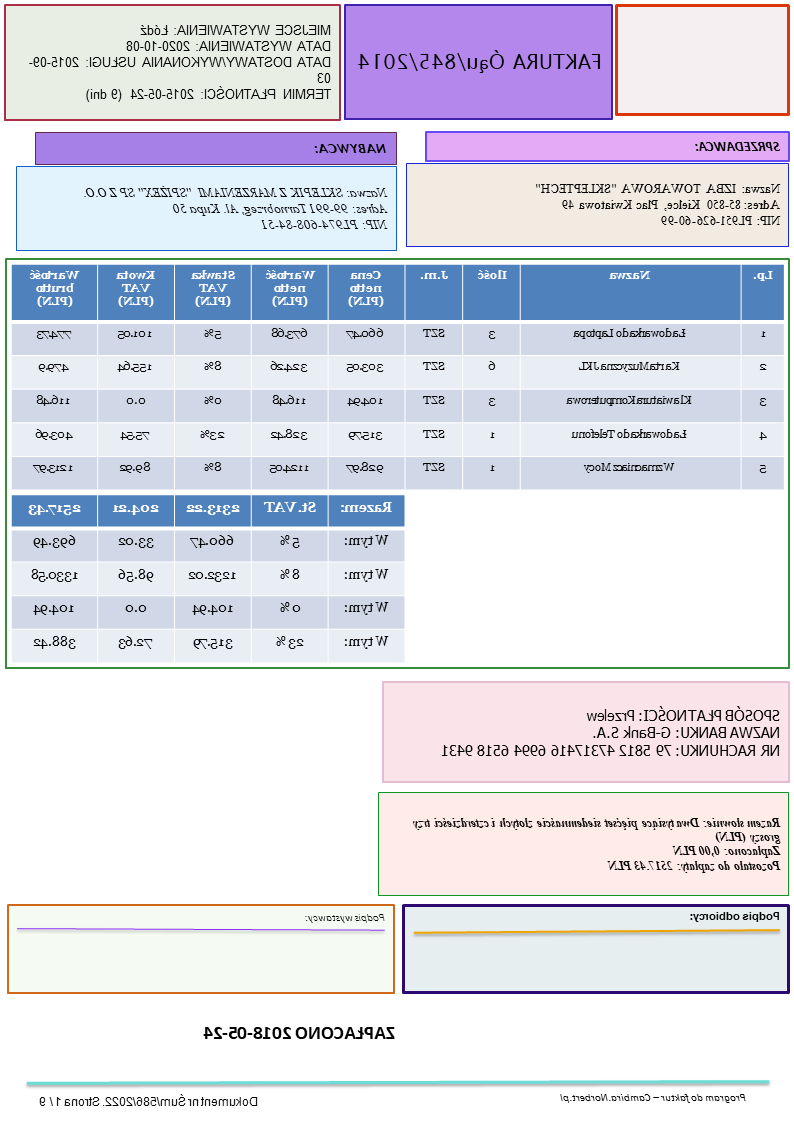Table: (13, 261, 786, 489), (10, 492, 406, 665)
TextBox: (26, 19, 335, 105), (409, 812, 784, 874), (437, 702, 783, 763), (81, 182, 390, 231), (533, 177, 784, 231), (356, 46, 605, 77), (200, 1021, 397, 1044), (39, 1091, 262, 1109), (559, 1089, 749, 1105), (686, 907, 783, 925), (305, 906, 388, 927), (693, 137, 782, 156), (312, 138, 391, 158)
